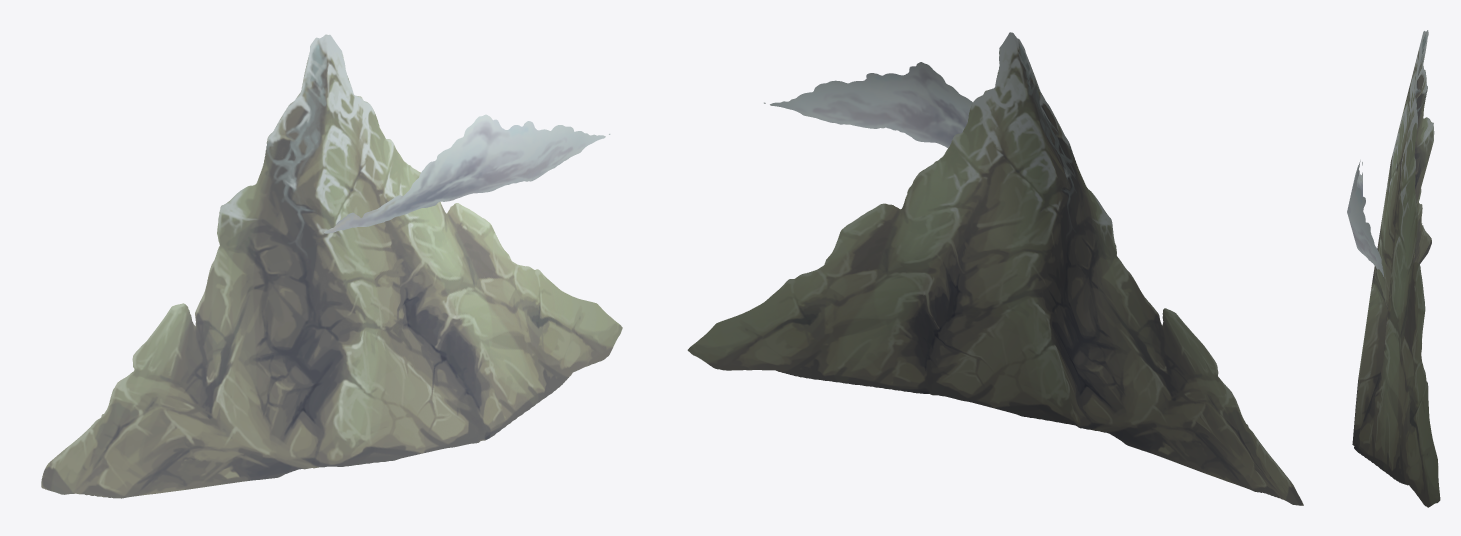
The model's file is Big Mountain.FBX.
The picture shows the model from 3 angles, left to right: view 1: azimuth 30°, elevation 25°; view 2: azimuth 150°, elevation 25°; view 3: azimuth 270°, elevation 25°; orthographic projection. The views are drawn at different scales.
Visible parts, largest first — view 1: Mountain; view 2: Mountain; view 3: Mountain.
Boxes of the visible parts, box(x1,y1,x2,y2) form: Mountain: box(41, 34, 622, 498); Mountain: box(687, 32, 1303, 505); Mountain: box(1347, 30, 1440, 507).
Size of the model in its own units: 5838 by 906 by 3900.
Materials: 1 (1 with a texture image).
